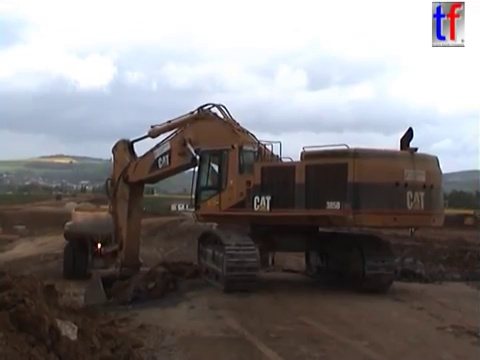excavator: (80, 99, 449, 316)
truck: (204, 193, 293, 275), (60, 199, 143, 284), (53, 190, 64, 202), (70, 189, 78, 199)
worker: (407, 215, 419, 239)
